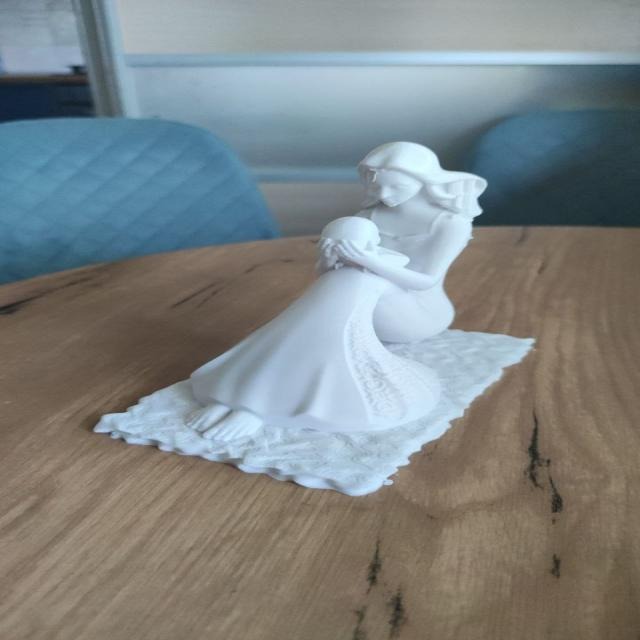Without deffect: (125, 96, 558, 522)
